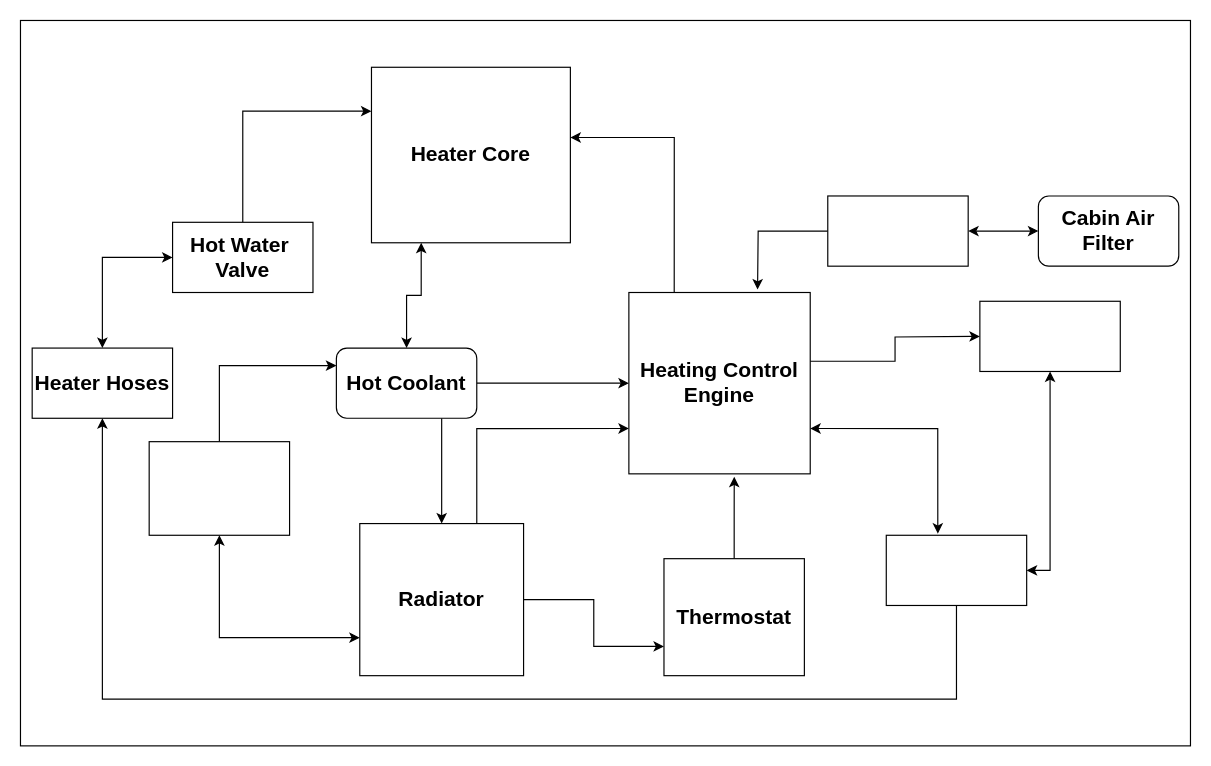
This 1211x766 diagram has some shape labels left out. The centre of each missing label's shape, as x and y in pixels:
"Blower Motor" goes at (x=1049, y=335).
"Coolant Expansion Tank" goes at (x=219, y=488).
"Fresh Air" goes at (x=897, y=230).
"Water Pump" goes at (x=956, y=569).
